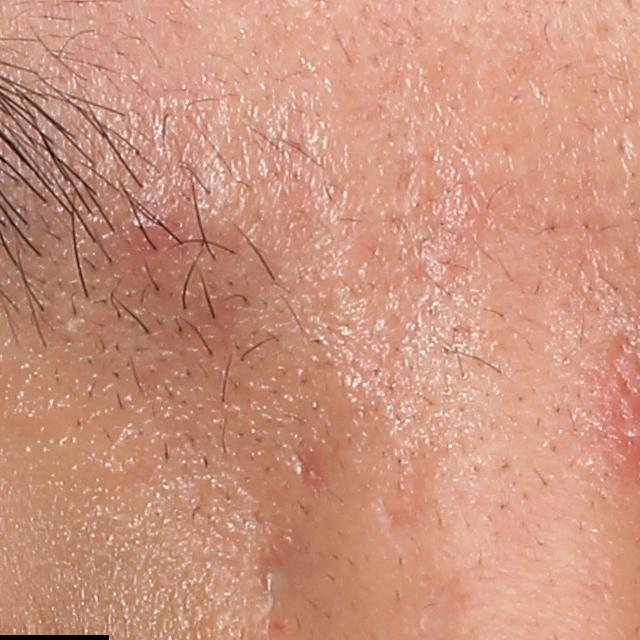atrophic_scar: (357, 235, 418, 403), (377, 485, 416, 549), (249, 545, 296, 598)
